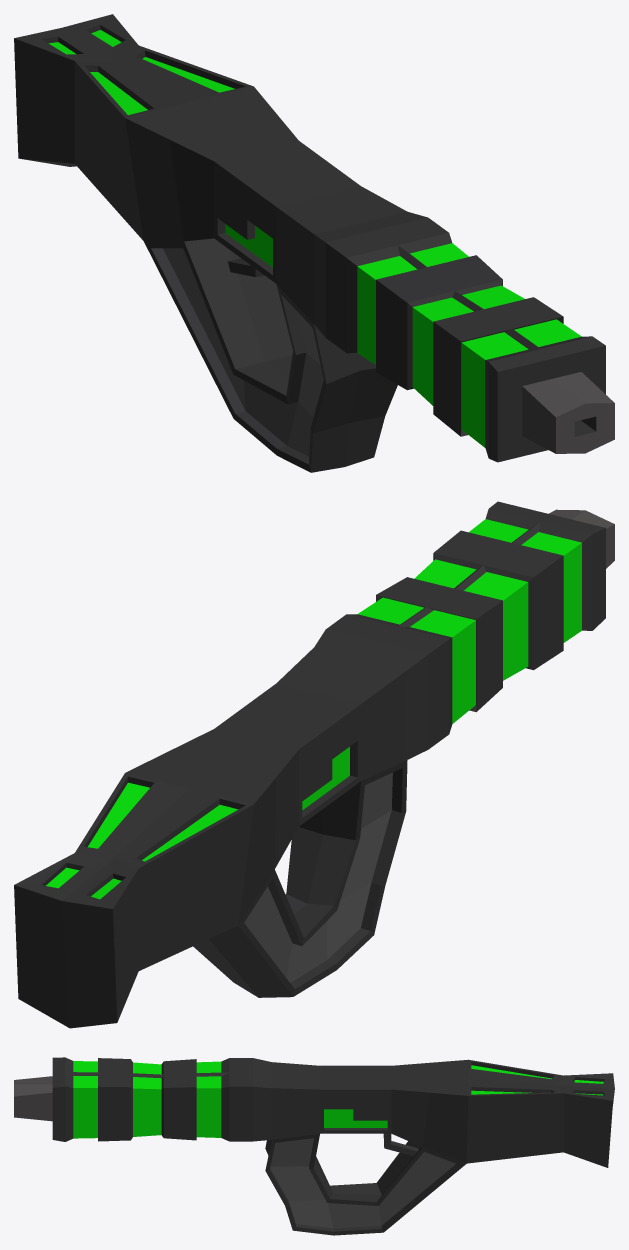
The model's file is Rifle.fbx.
3 views of the same model, one above another, from view 1: azimuth 30°, elevation 25°; view 2: azimuth 150°, elevation 25°; view 3: azimuth 270°, elevation 25° (orthographic). The views are drawn at different scales.
Parts seen in each view (by area): view 1: Cube; view 2: Cube; view 3: Cube.
Part boxes in pixels (box(x1,y1,x2,y2)): Cube: box(14, 14, 614, 472); Cube: box(14, 501, 614, 1028); Cube: box(14, 1057, 614, 1235).
Bounding box in the file's own units: 26.26 × 52.74 × 185.
